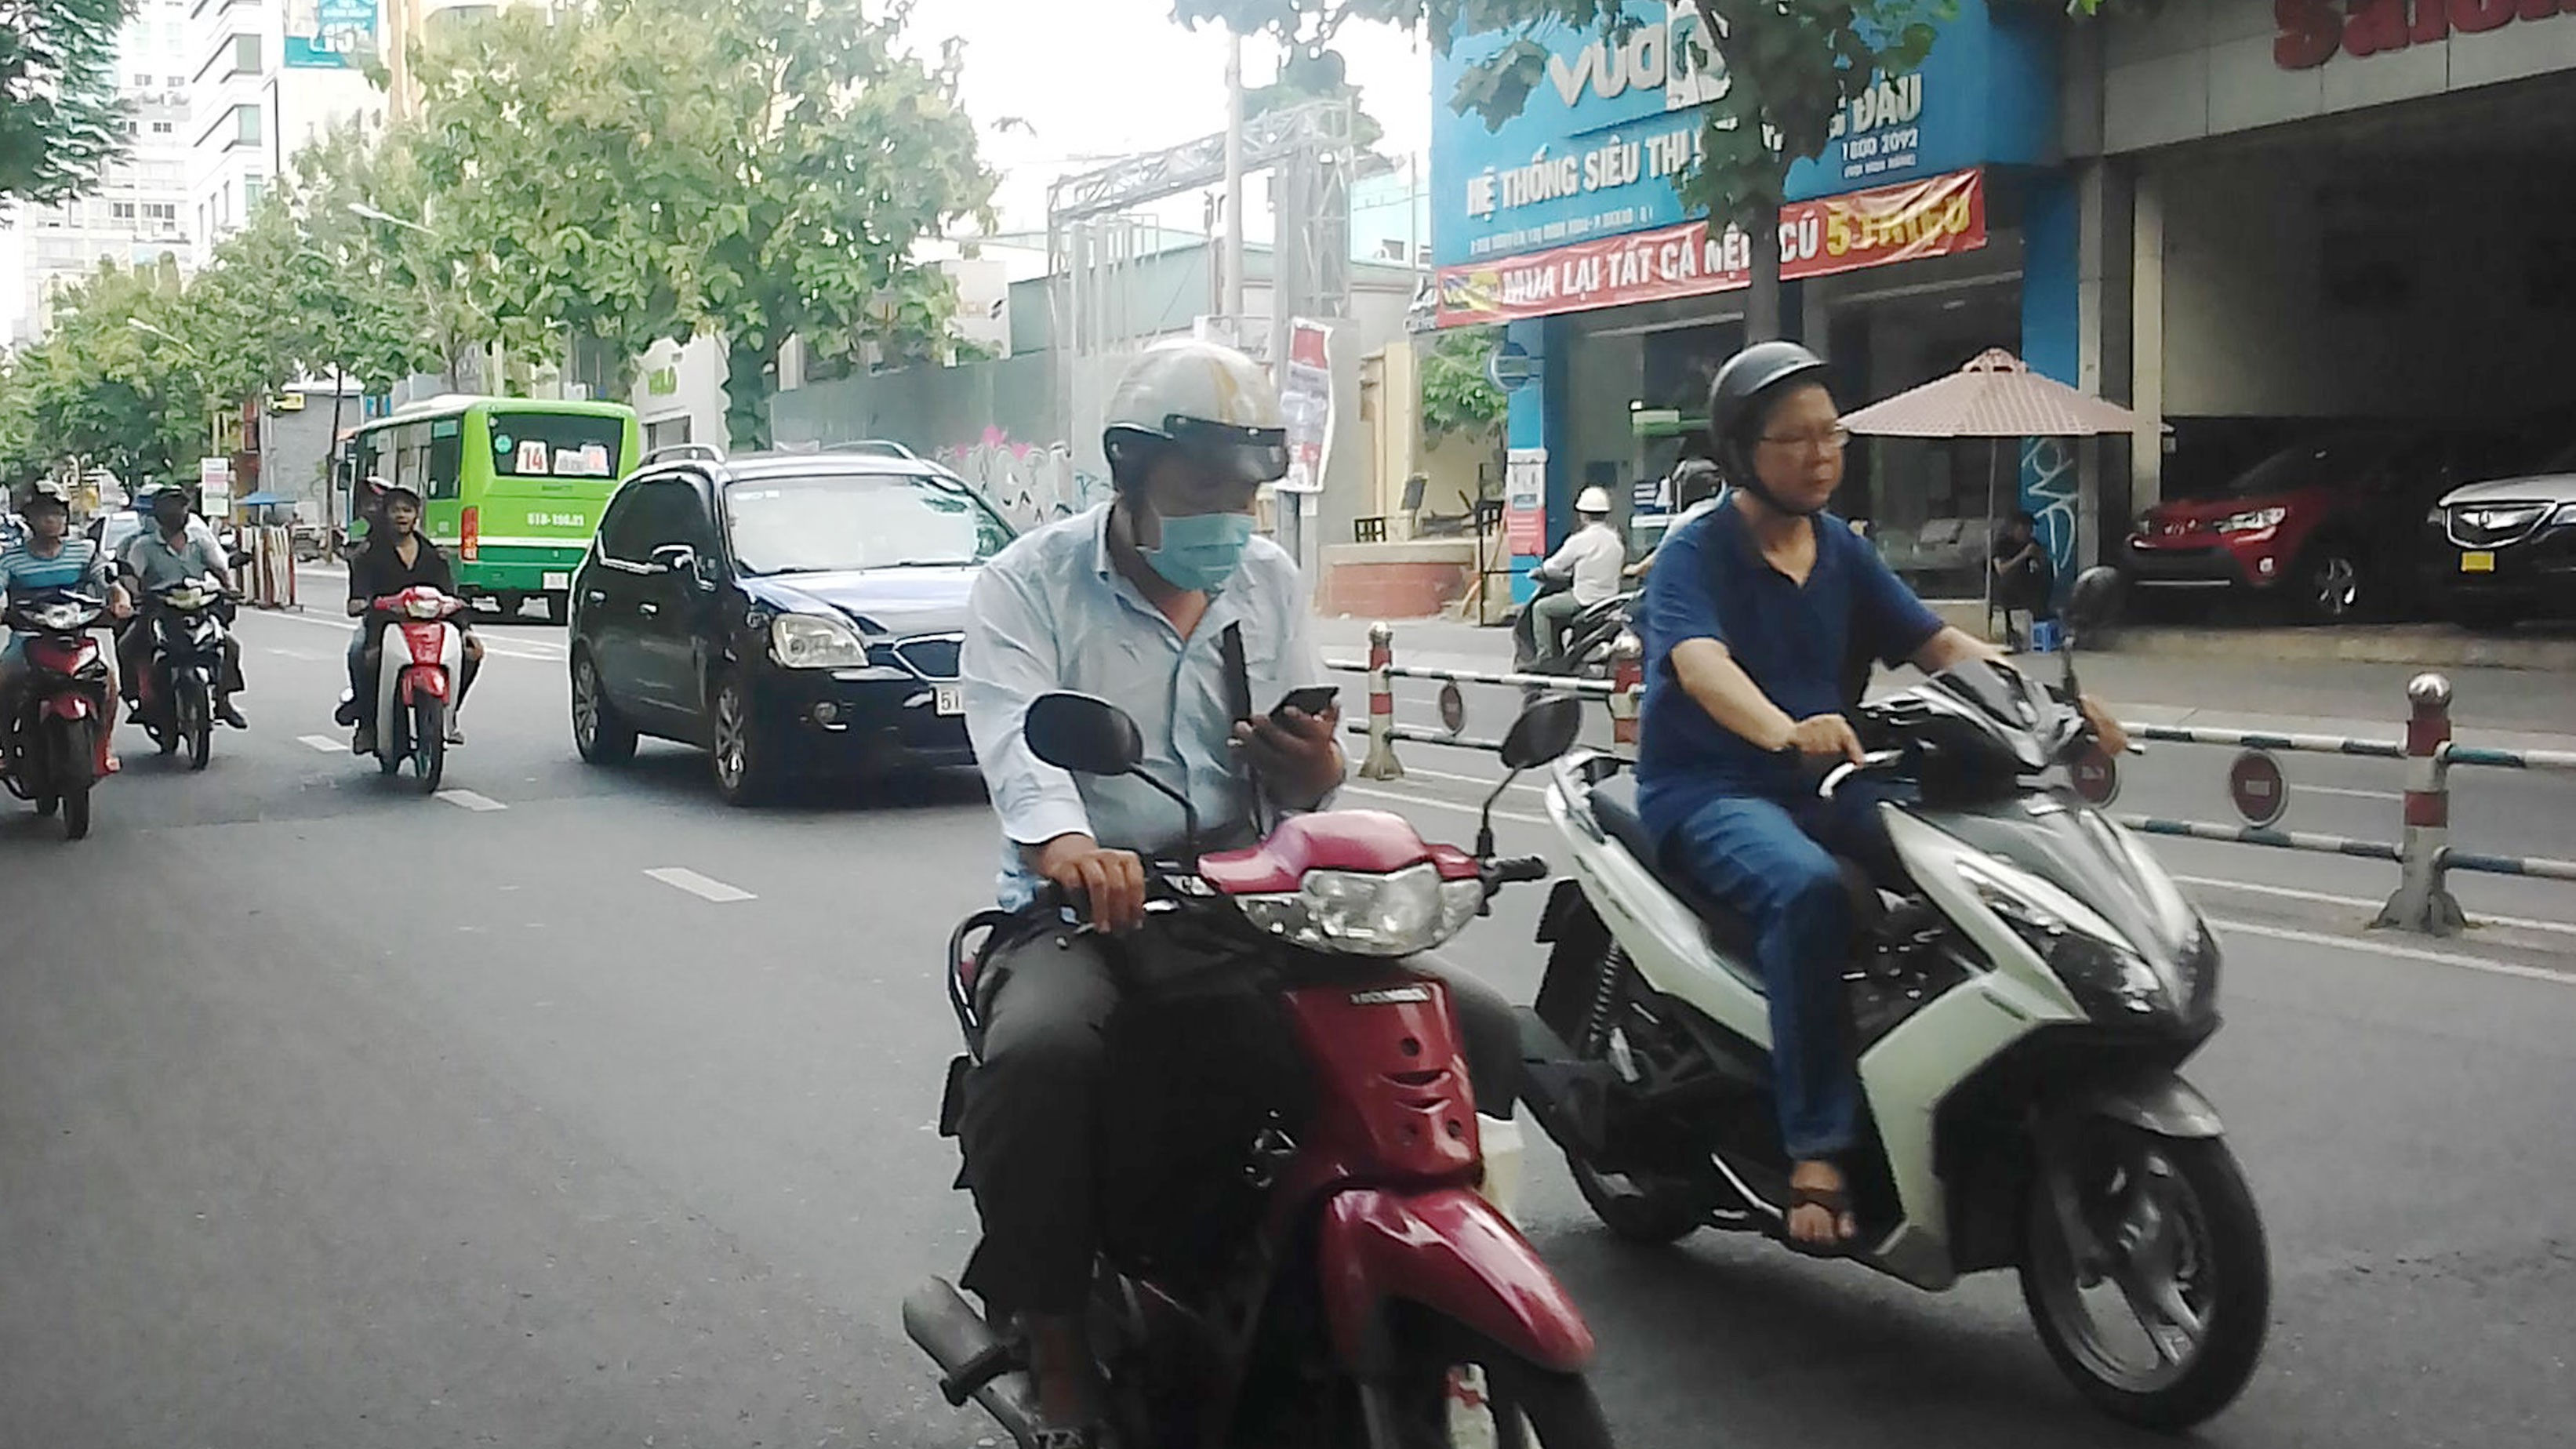dieu khien xe may: (1097, 324, 1506, 1323), (1707, 345, 2219, 1139)
su dung dien thoai: (1108, 338, 1355, 778)
